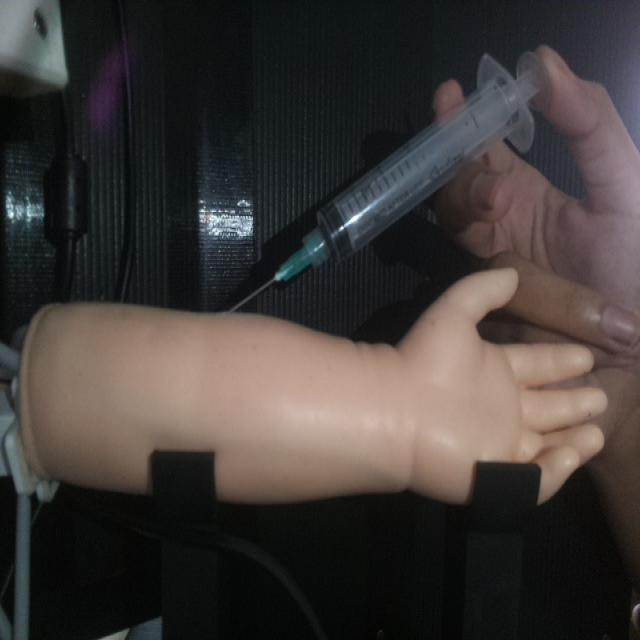Above 30 degrees: (223, 48, 546, 315)
